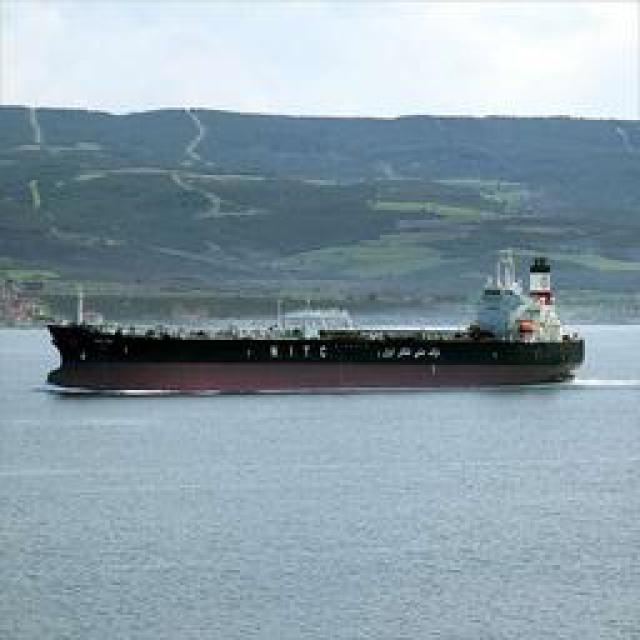Ship: (44, 245, 592, 401)
